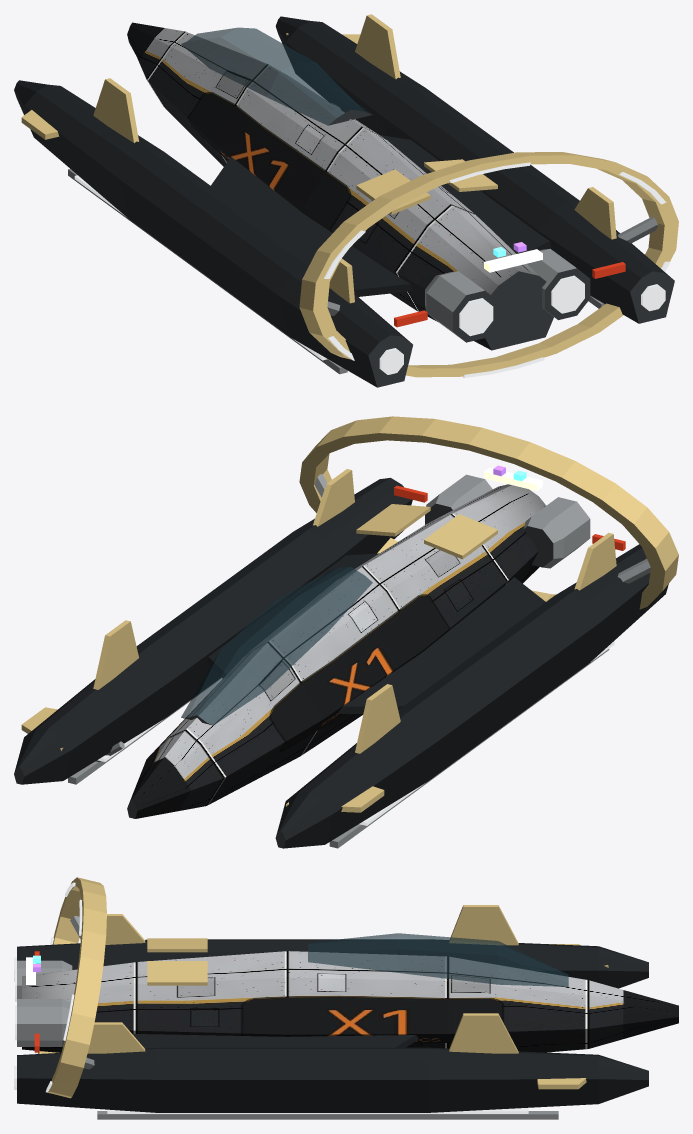
The model's file is halo.glb.
3 renders of one model, top to bottom at view 1: azimuth 30°, elevation 25°; view 2: azimuth 150°, elevation 25°; view 3: azimuth 270°, elevation 25°, orthographic. The views are drawn at different scales.
Visible parts, largest first — view 1: body_static, stabiliser_ring_body, steering_fin_R_body, steering_fin_L_body, elevon_R_body, airbrake_L_body, airbrake_R_body, skids_body, elevon_L_body; view 2: body_static, stabiliser_ring_body, airbrake_L_body, steering_fin_L_body, steering_fin_R_body, skids_body, airbrake_R_body, elevon_L_body, elevon_R_body; view 3: body_static, stabiliser_ring_body, skids_body, steering_fin_R_body, steering_fin_L_body, airbrake_R_body, elevon_R_body, airbrake_L_body, elevon_L_body.
Part boxes in pixels (box(x1,y1,x2,y2)): body_static: box(14, 16, 674, 387); stabiliser_ring_body: box(299, 152, 678, 377); steering_fin_R_body: box(355, 14, 400, 79); steering_fin_L_body: box(93, 78, 138, 142); elevon_R_body: box(574, 187, 616, 239); airbrake_L_body: box(356, 169, 430, 214); airbrake_R_body: box(424, 159, 497, 191); skids_body: box(68, 103, 604, 374); elevon_L_body: box(329, 258, 354, 303); body_static: box(14, 465, 668, 848); stabiliser_ring_body: box(299, 416, 678, 609); airbrake_L_body: box(424, 514, 497, 559); steering_fin_L_body: box(355, 684, 400, 753); steering_fin_R_body: box(93, 620, 138, 689); skids_body: box(68, 649, 609, 848); airbrake_R_body: box(356, 504, 430, 536); elevon_L_body: box(574, 532, 616, 590); elevon_R_body: box(313, 469, 354, 526); body_static: box(14, 916, 678, 1113); stabiliser_ring_body: box(35, 877, 106, 1098); skids_body: box(97, 1111, 558, 1119); steering_fin_R_body: box(449, 1013, 518, 1053); steering_fin_L_body: box(449, 905, 518, 945); airbrake_R_body: box(147, 961, 207, 985); elevon_R_body: box(87, 1022, 145, 1053); airbrake_L_body: box(147, 938, 207, 952); elevon_L_body: box(105, 914, 145, 944).
Bounding box in the file's own units: 3.58 × 1.79 × 6.63.
10 materials, 2 textured.
